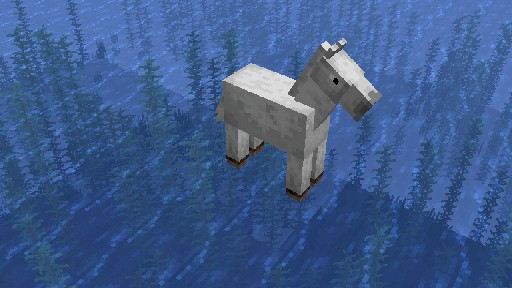horse: (213, 37, 382, 202)
